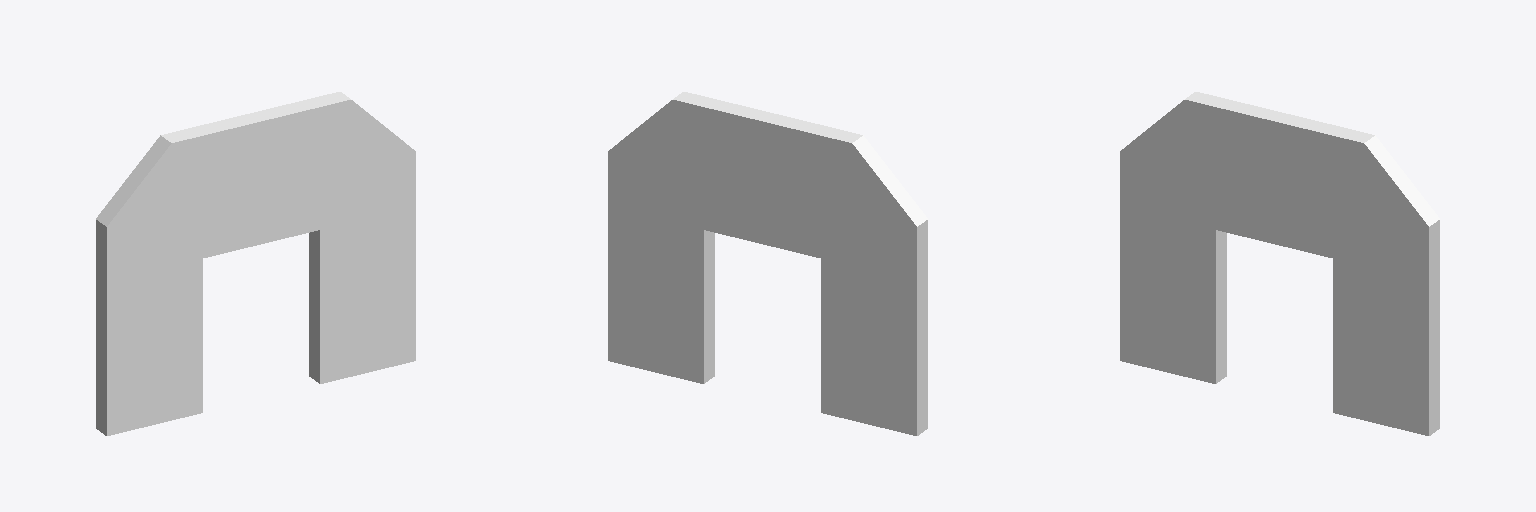
File: wall.obj
3 renders of one model, left to right at view 1: azimuth 30°, elevation 25°; view 2: azimuth 150°, elevation 25°; view 3: azimuth 330°, elevation 25°, orthographic.
Parts seen in each view (by area): view 1: Cube1; view 2: Cube1; view 3: Cube1.
Boxes of the visible parts, x1,y1,x2,y2 form: Cube1: [96, 92, 415, 435]; Cube1: [608, 92, 927, 435]; Cube1: [1120, 92, 1439, 435].
Size of the model in its own units: 0.8337 by 0.7135 by 0.0519.